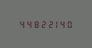eight: (31, 20, 37, 28)
four: (17, 20, 23, 28), (24, 20, 30, 28), (59, 20, 65, 28)
one: (52, 20, 58, 28)
two: (38, 20, 44, 28), (45, 20, 51, 28)
zero: (66, 20, 72, 28)
